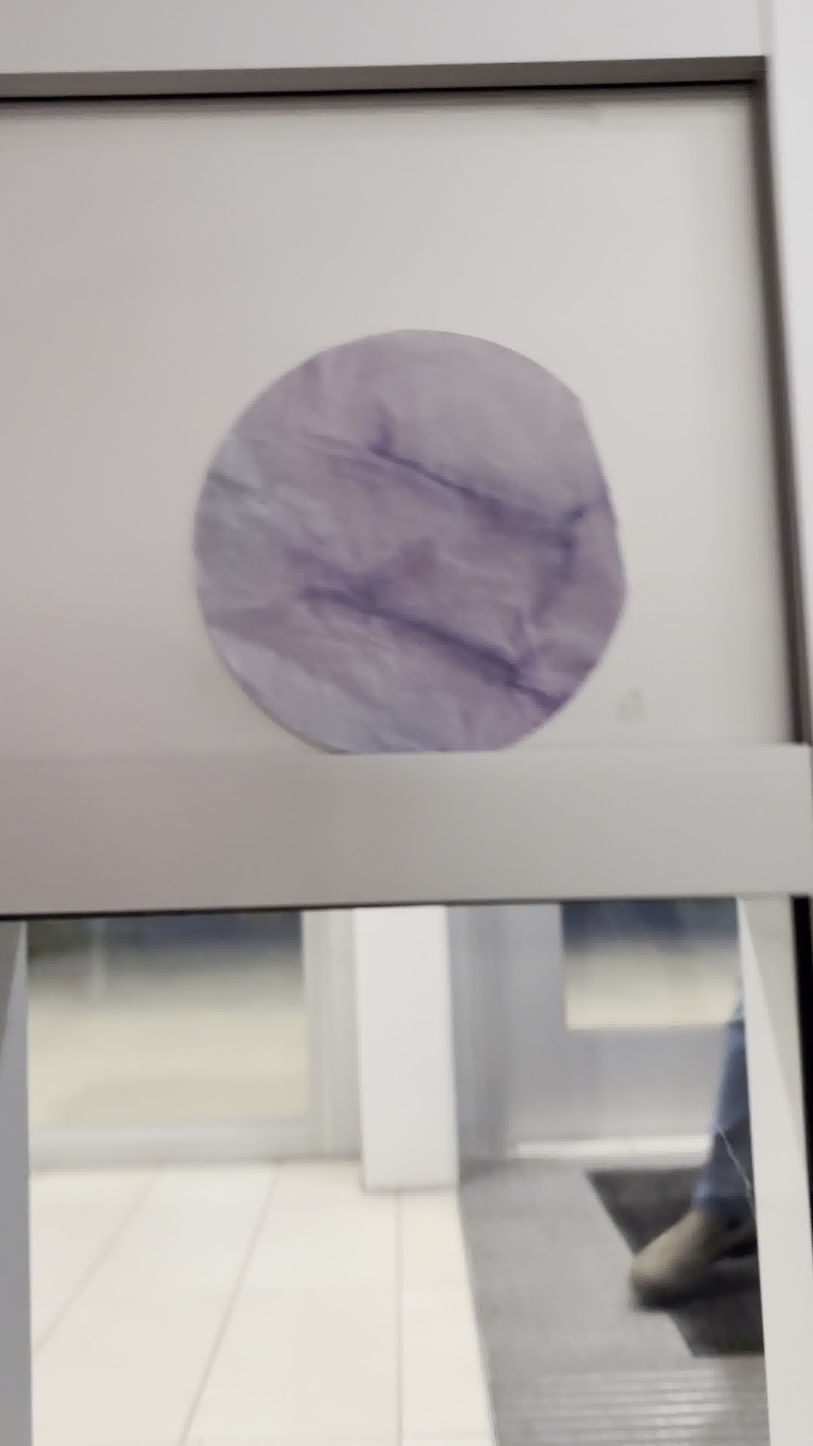Target: (181, 319, 641, 768)
